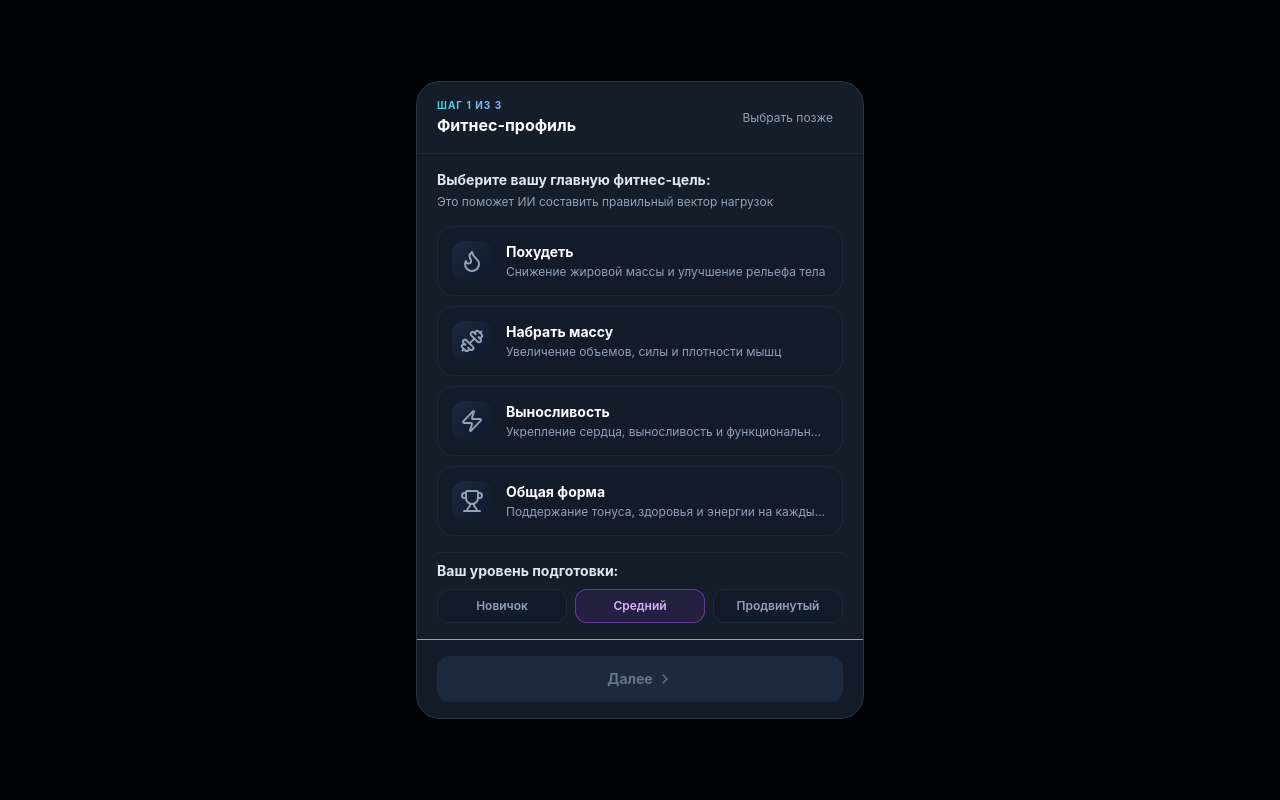
FitnessOnboarding Component › renders step 1 and validates goal selection
The width and height of the screenshot is (1280, 800).
Expected: the text "Шаг 1 из 3" is shown, [437,98,576,113]
Expected: the heading "Выберите вашу главную фитнес-цель:" is shown, [437,171,711,188]
Click the button "Похудеть": (640, 261) [437,226,843,296]
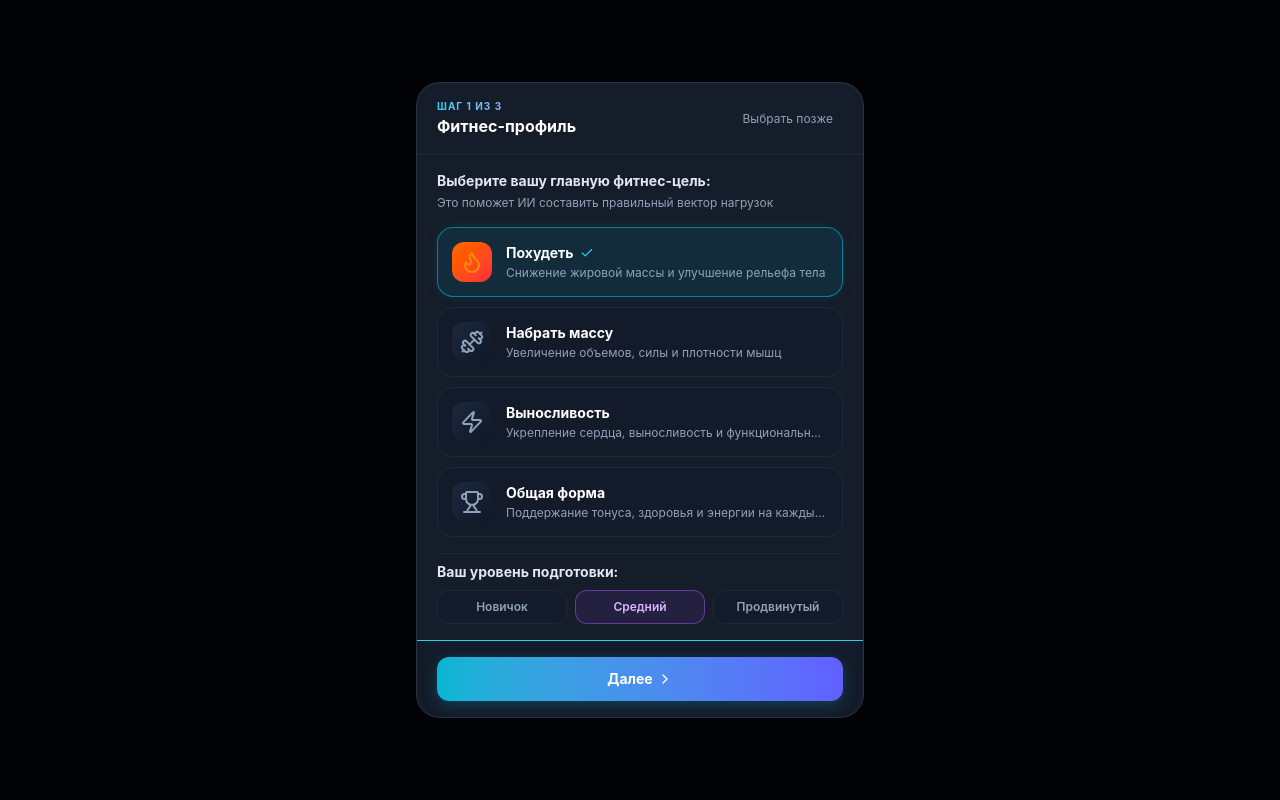
Expected: the button "Далее" is enabled
Note: Click Next to go to Step 2
Click the button "Далее": (640, 679) [437,657,843,701]
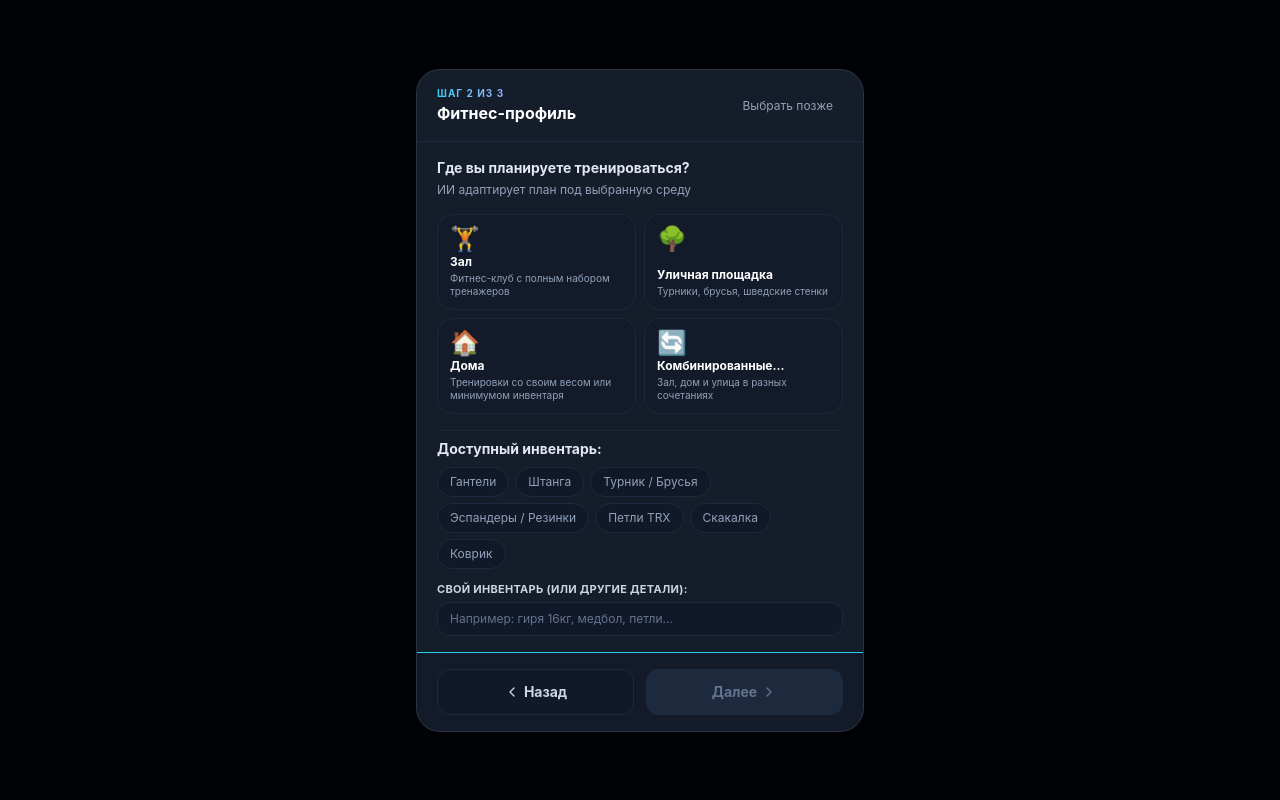
Expected: the text "Шаг 2 из 3" is shown, [437,86,576,101]
Expected: the heading "Где вы планируете тренироваться?" is shown, [437,159,690,176]
